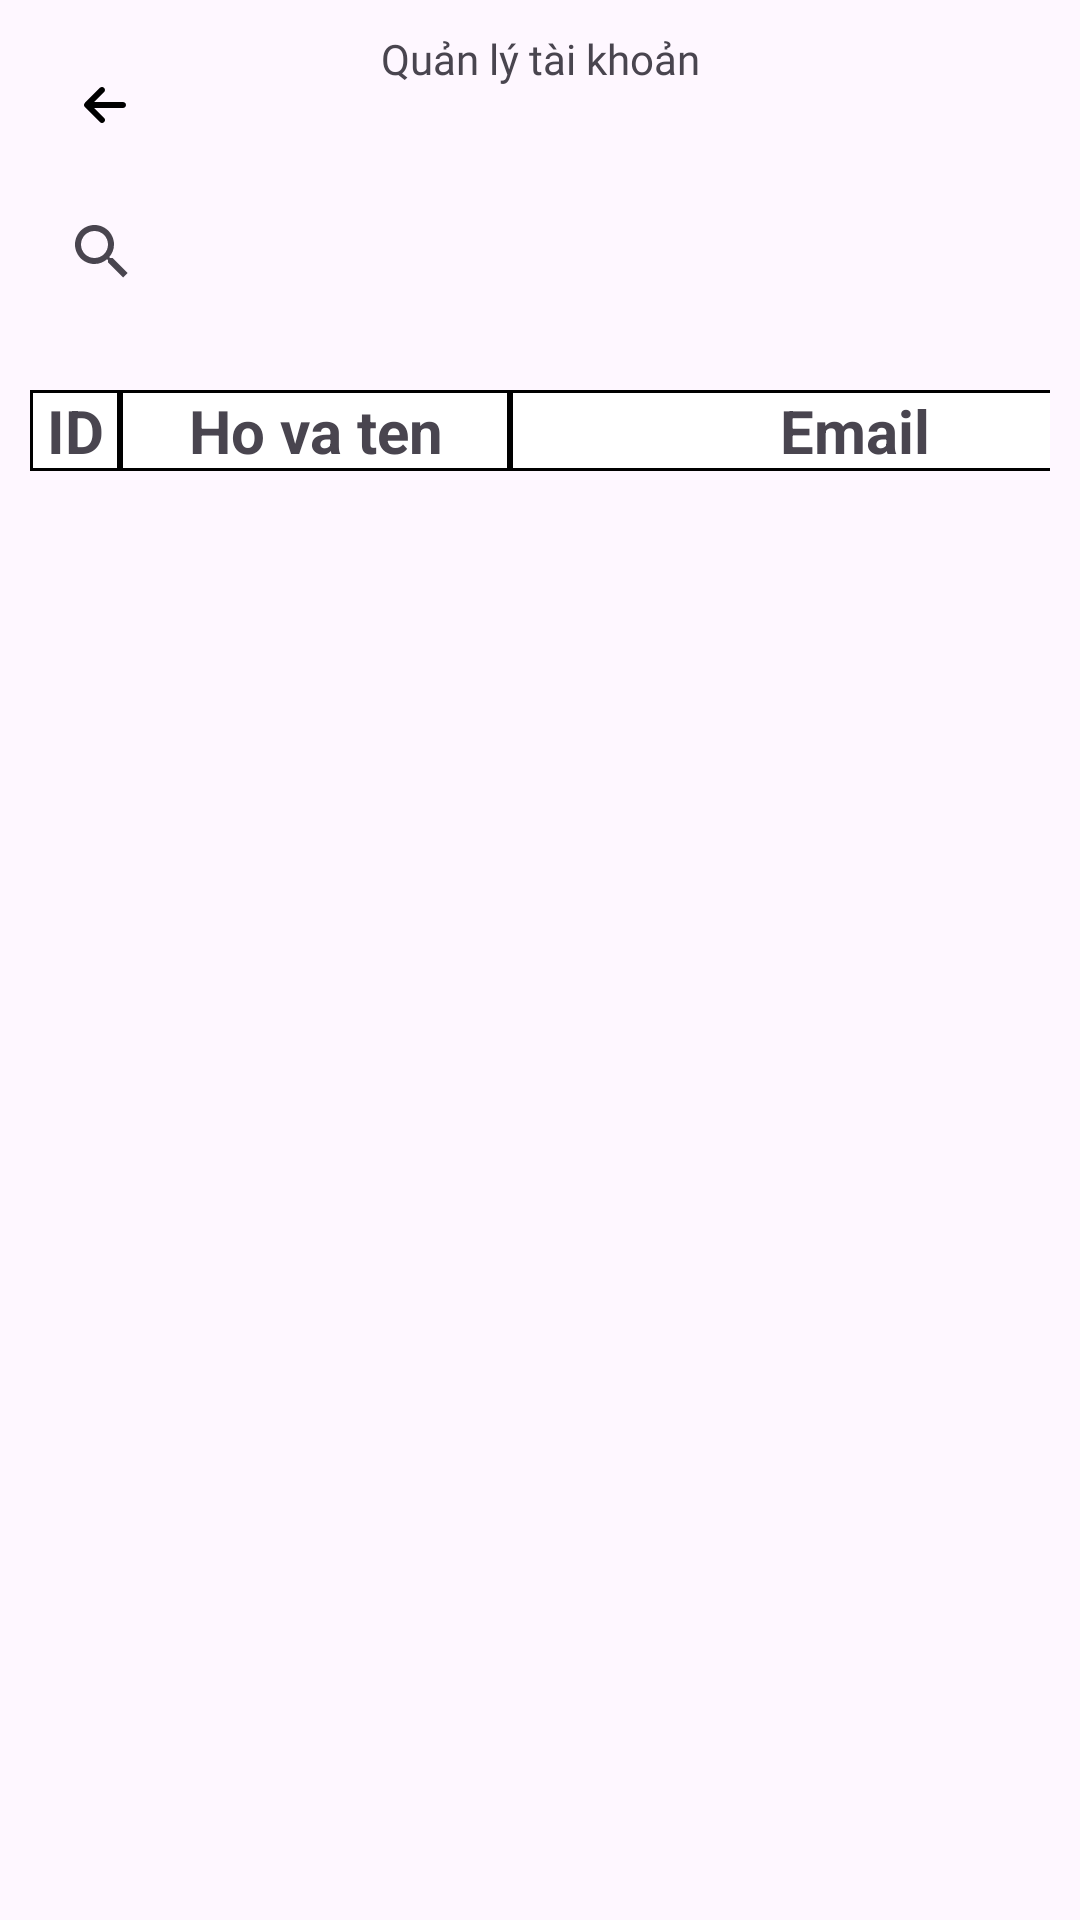

Where to tap for icons on this 1080*1920 app screen, as (x=x, y=y):
arrow left: (x=105, y=105)
